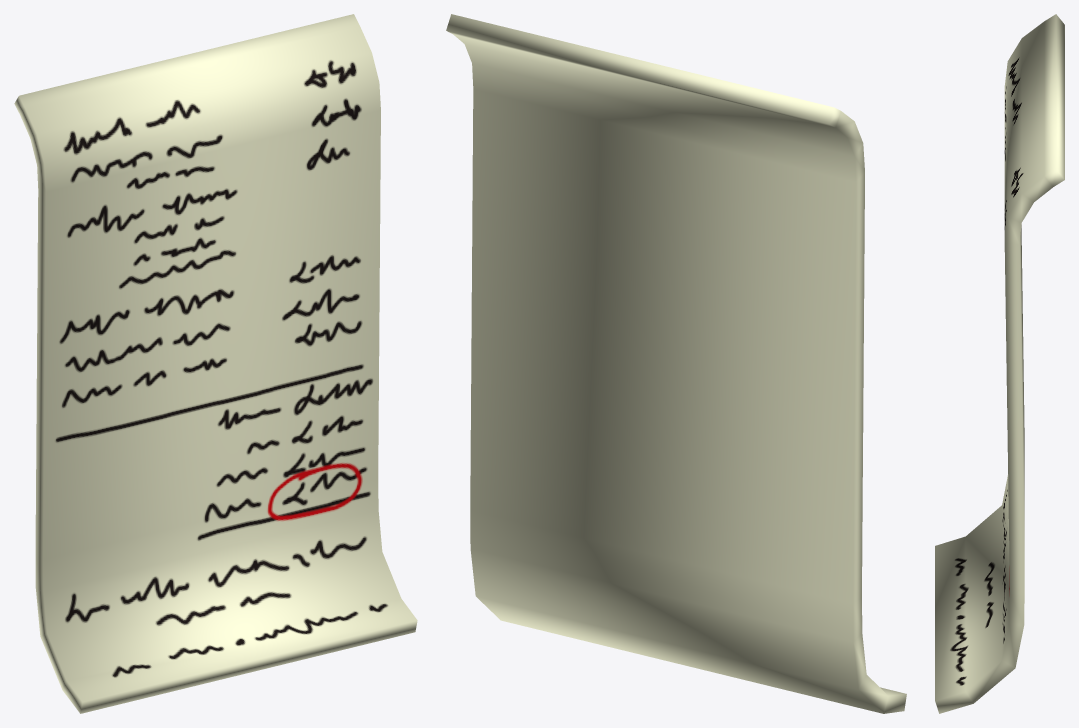
File: P_RestaurantTicket.fbx
3 renders of one model, left to right at view 1: azimuth 30°, elevation 25°; view 2: azimuth 150°, elevation 25°; view 3: azimuth 270°, elevation 25°, orthographic. The views are drawn at different scales.
Parts seen in each view (by area): view 1: P_Ticket; view 2: P_Ticket; view 3: P_Ticket.
Boxes of the visible parts, <box> form: P_Ticket: <box>14,14,417,713</box>; P_Ticket: <box>446,14,906,713</box>; P_Ticket: <box>935,14,1064,713</box>.
Bounding box in the file's own units: 0.2 × 0.3271 × 0.0706.
Materials: 1 (1 with a texture image).
